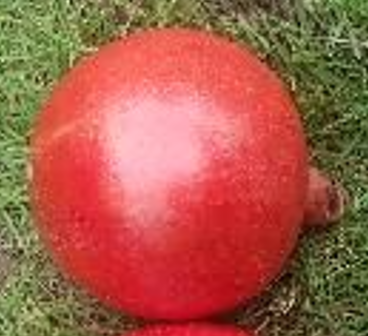pomegranate_A: (27, 26, 346, 323)
